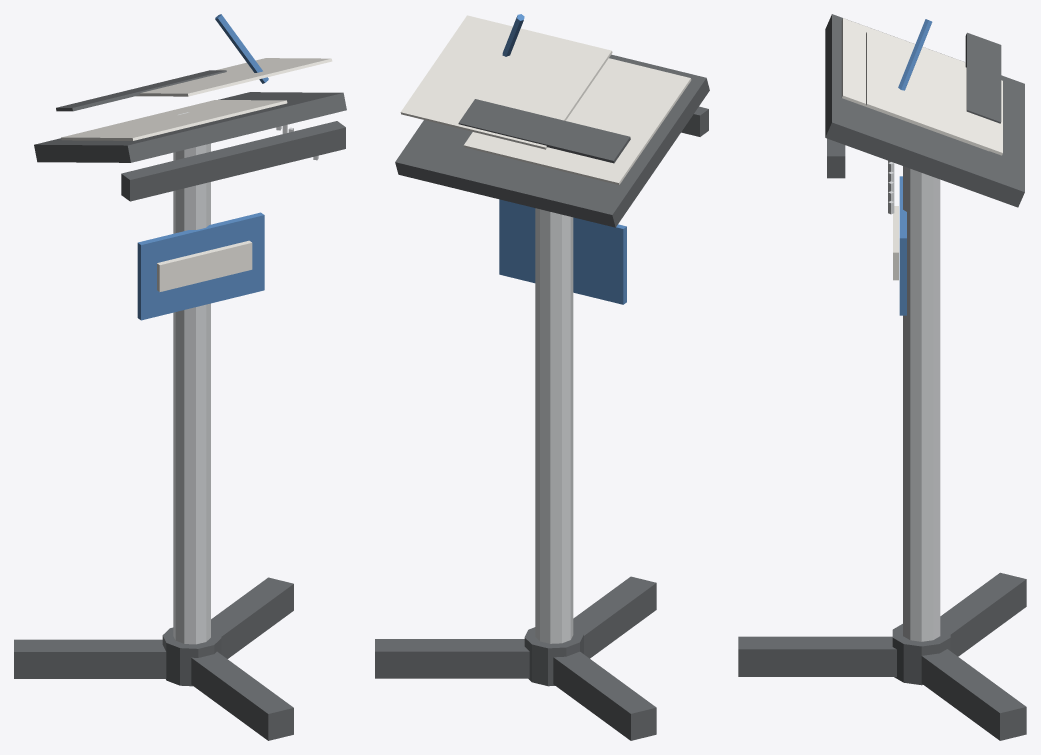
File: tool-hire-depot-and-plant-yard-tool-hire-depot-and-pla-93141d24__35300.glb
The picture shows the model from 3 angles, left to right: view 1: azimuth 30°, elevation 25°; view 2: azimuth 150°, elevation 25°; view 3: azimuth 270°, elevation 25°; orthographic projection. The views are drawn at different scales.
Visible parts, largest first — view 1: tool-hire-depot-and-plant-yard-hire-agreement-stand; view 2: tool-hire-depot-and-plant-yard-hire-agreement-stand; view 3: tool-hire-depot-and-plant-yard-hire-agreement-stand.
Part boxes in pixels (box(x1,y1,x2,y2)): tool-hire-depot-and-plant-yard-hire-agreement-stand: box(14, 14, 346, 740); tool-hire-depot-and-plant-yard-hire-agreement-stand: box(375, 14, 709, 740); tool-hire-depot-and-plant-yard-hire-agreement-stand: box(738, 14, 1026, 740).
Size of the model in its own units: 0.5446 by 1.21 by 0.4716.
